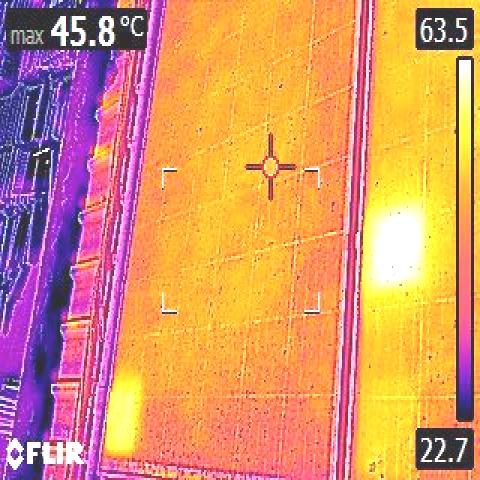fault: (372, 217, 426, 287), (107, 392, 134, 450)
